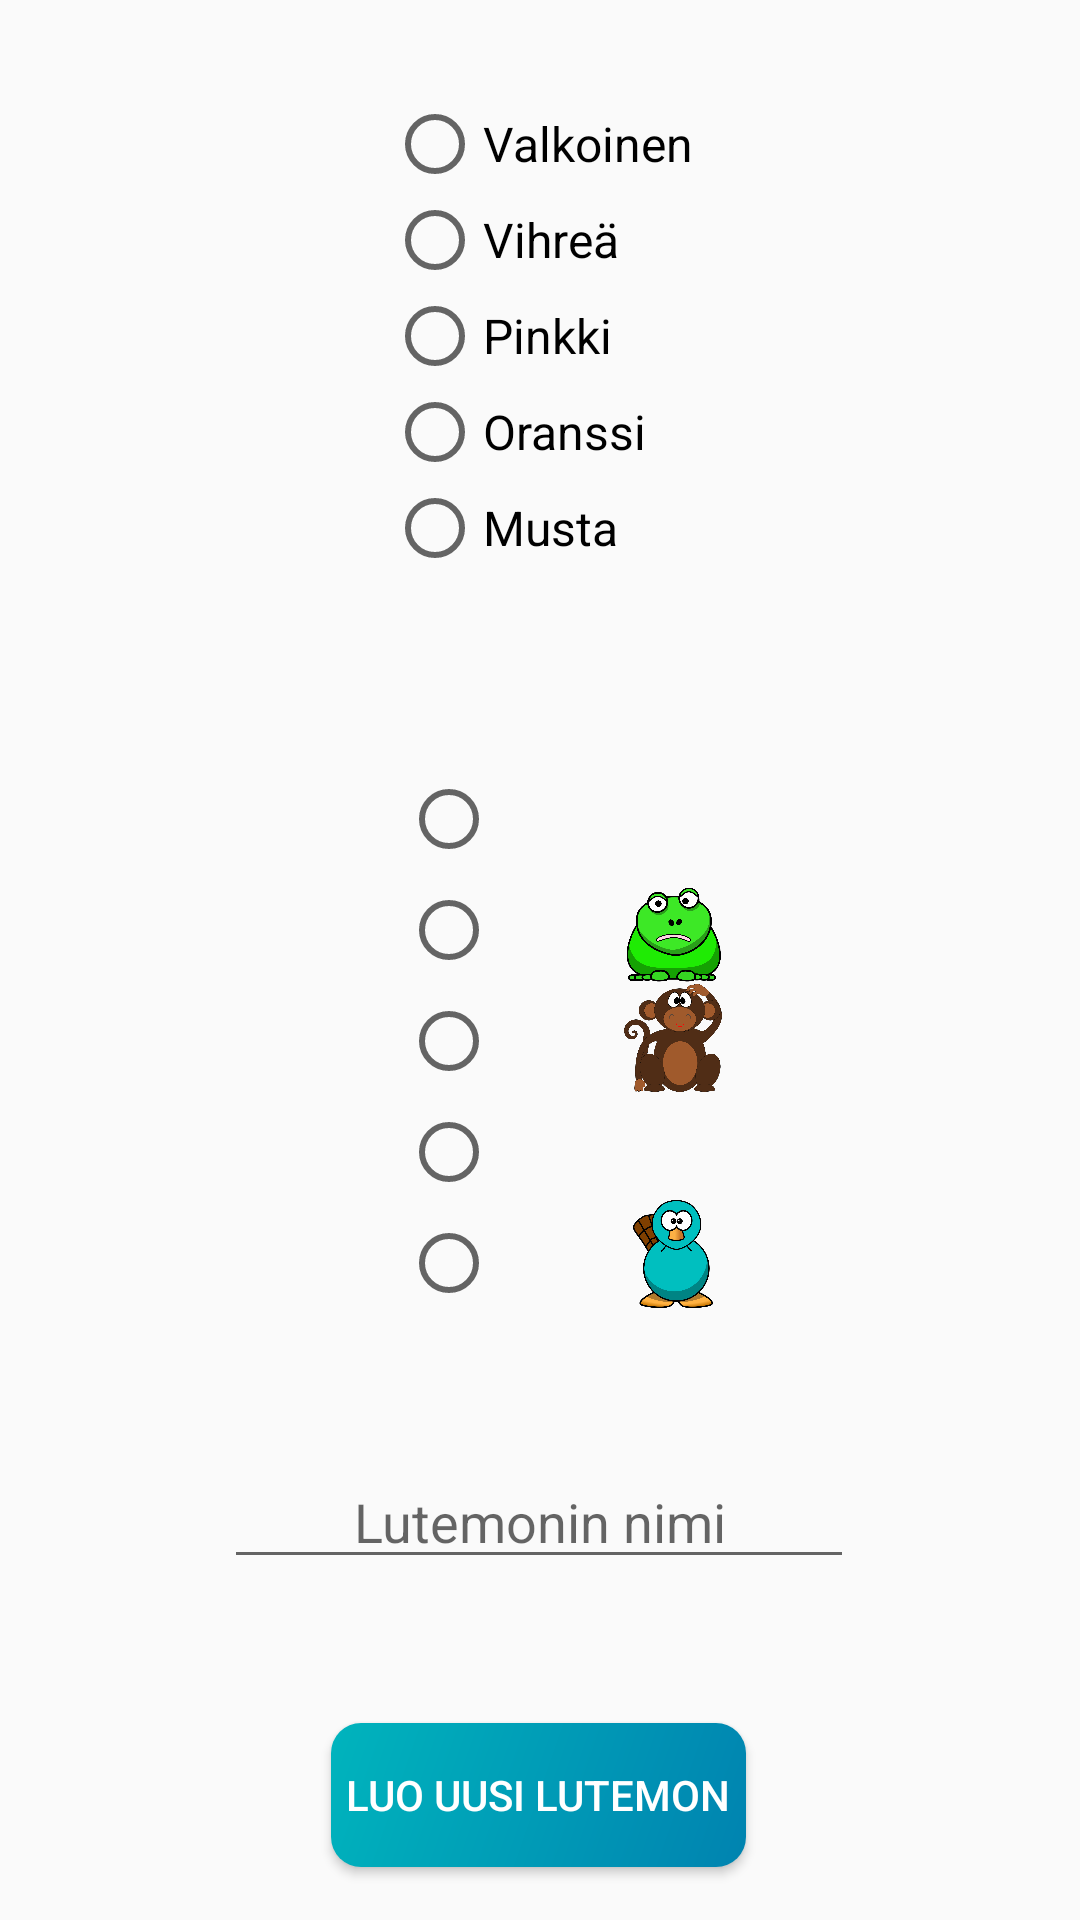

Icons on this 1080w x 1920h Android screen, each with its box as bbox=[x1, y1, x2, y2]:
frog: bbox=[627, 888, 721, 982]
monkey: bbox=[624, 984, 722, 1092]
platypus: bbox=[633, 1200, 713, 1308]
